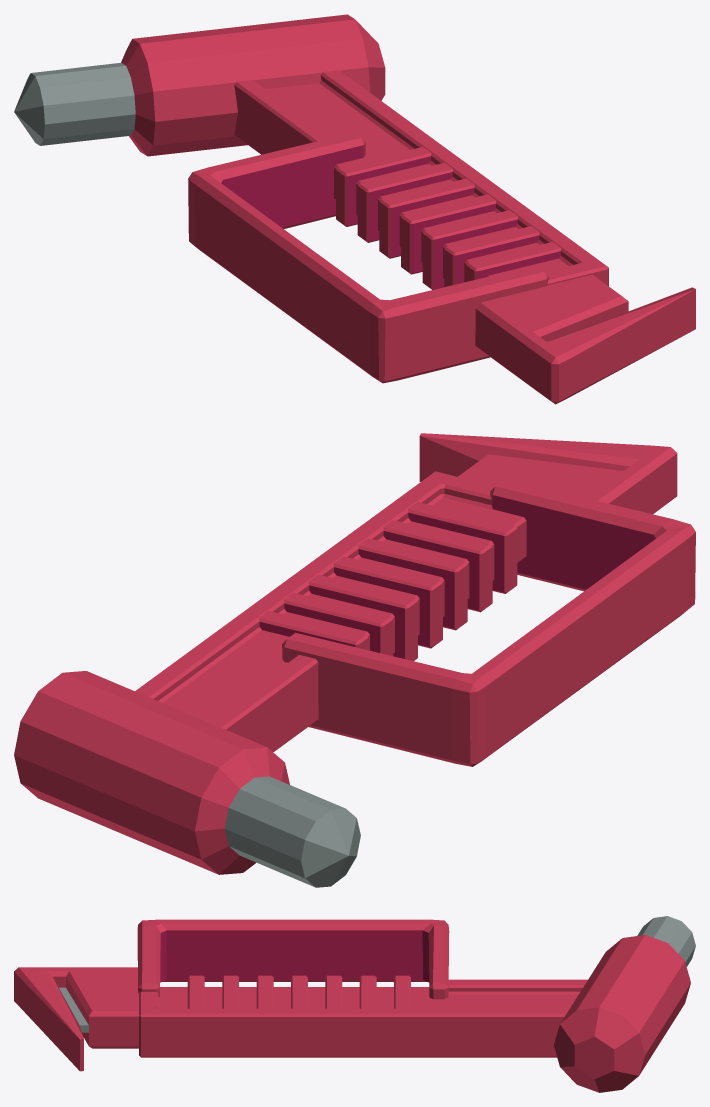
File: bus_breaker_mdl.fbx
3 renders of one model, top to bottom at view 1: azimuth 30°, elevation 25°; view 2: azimuth 150°, elevation 25°; view 3: azimuth 270°, elevation 25°, orthographic. The views are drawn at different scales.
Visible parts, largest first — view 1: breaker_mdl; view 2: breaker_mdl; view 3: breaker_mdl.
Boxes of the visible parts, x1,y1,x2,y2 form: breaker_mdl: (14,14,695,404); breaker_mdl: (14,433,695,887); breaker_mdl: (14,916,695,1092).
Bounding box in the file's own units: 14.41 × 4.62 × 33.3.
